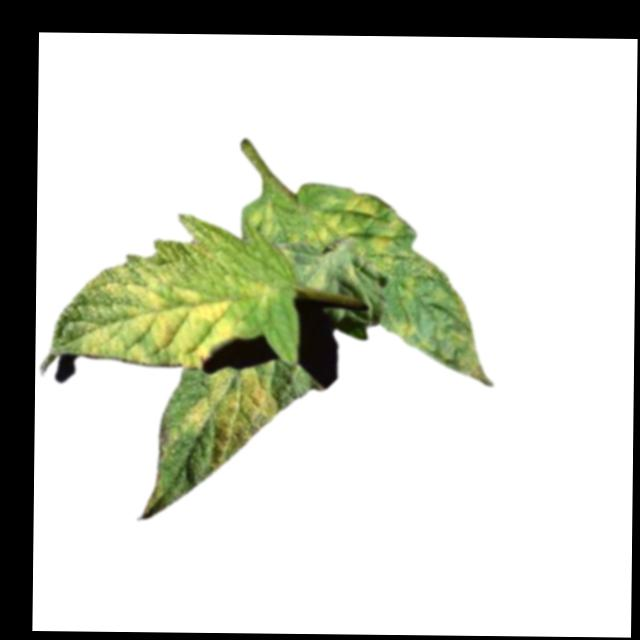Leaf_Mold: (74, 254, 234, 370), (184, 366, 278, 472), (289, 212, 354, 254), (236, 273, 280, 315), (373, 218, 402, 273), (342, 191, 378, 217), (390, 321, 415, 343)
